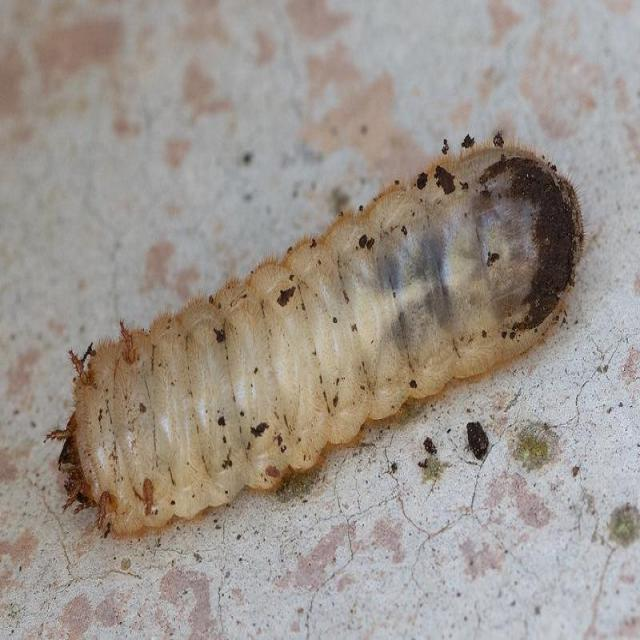Grub-Adult-: (27, 114, 582, 540)
